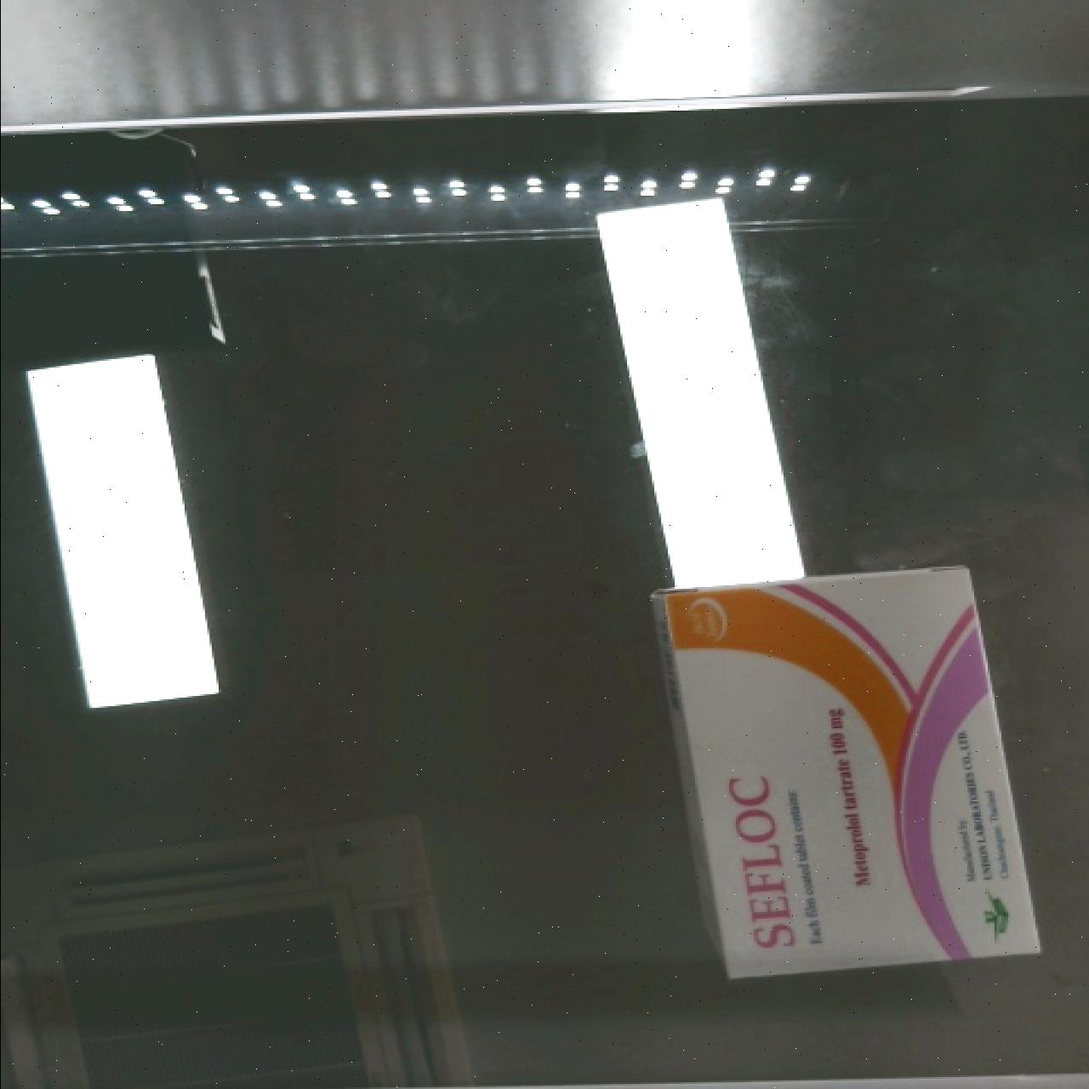medicine_label_obb: (703, 750, 817, 975)
